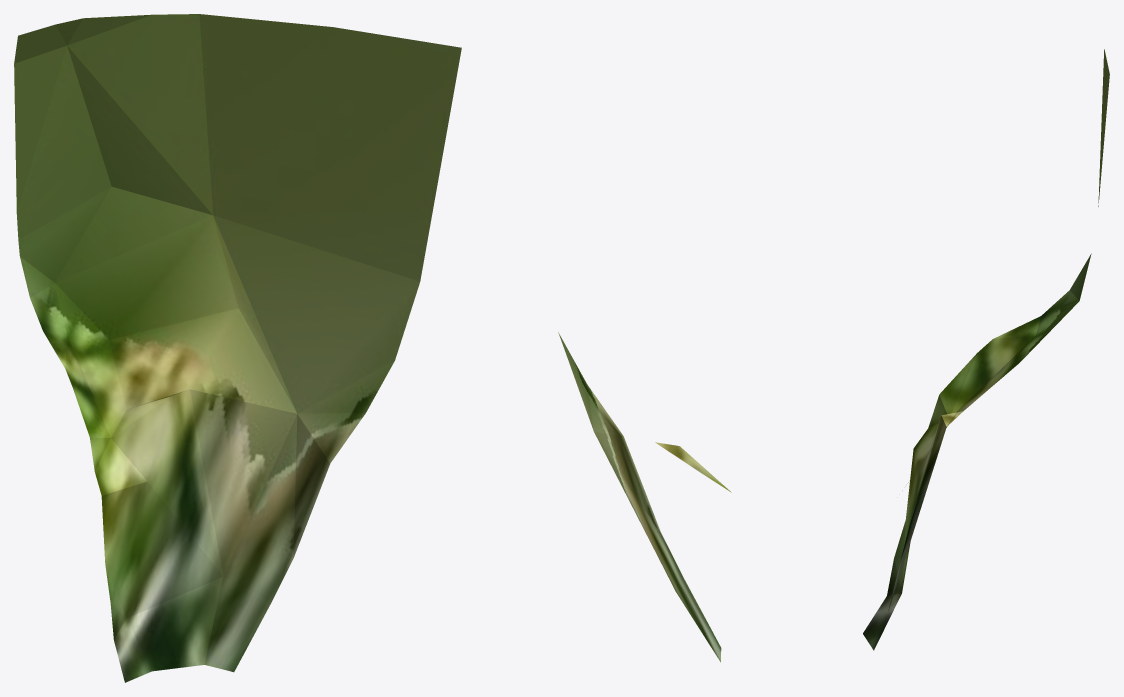
The picture shows the model from 3 angles, left to right: view 1: azimuth 30°, elevation 25°; view 2: azimuth 150°, elevation 25°; view 3: azimuth 270°, elevation 25°; orthographic projection. The views are drawn at different scales.
Bounding box in the file's own units: 0.4937 × 0.8374 × 0.3464.
Materials: 2 (2 with a texture image).
